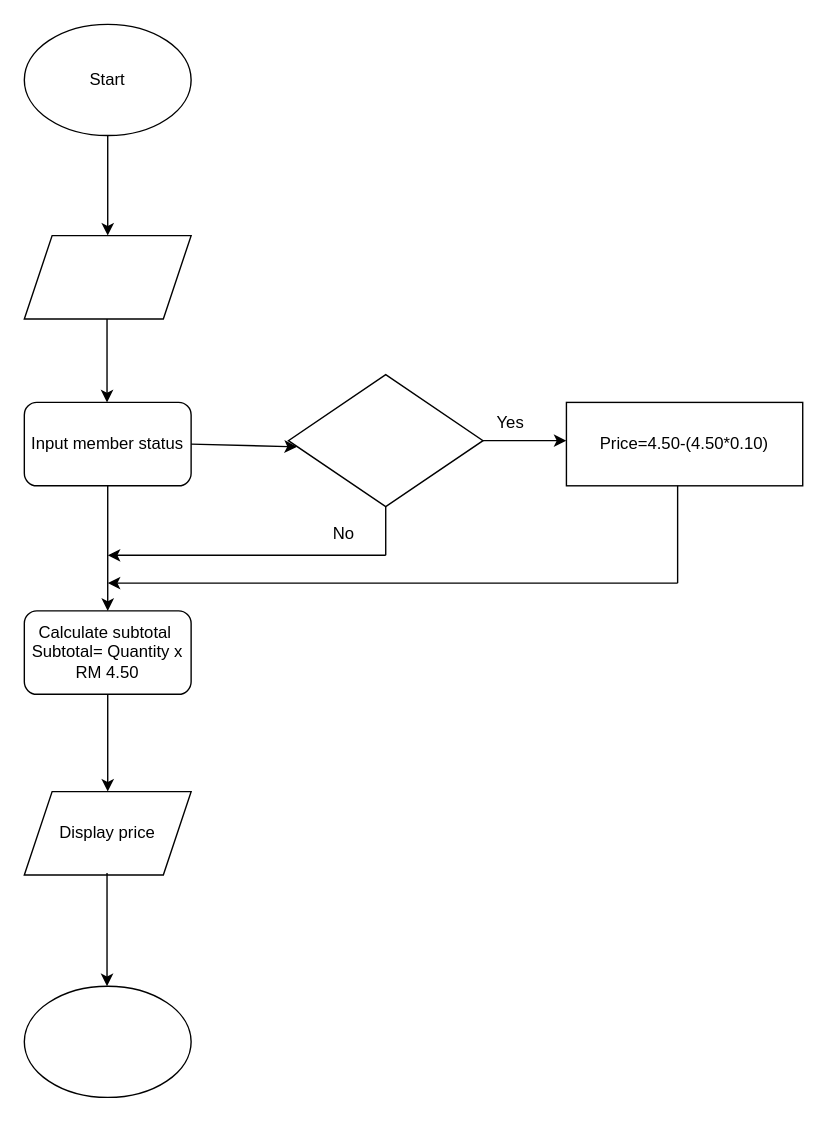
Some shapes in this 827 by 1122 pixel diagram are drawn without their labels. The centre of each missing label's shape, as x and y in pixels:
"Enter quantity" belongs at (107,276).
"Is a member or not" belongs at (385,440).
"Stop" belongs at (107,1041).
